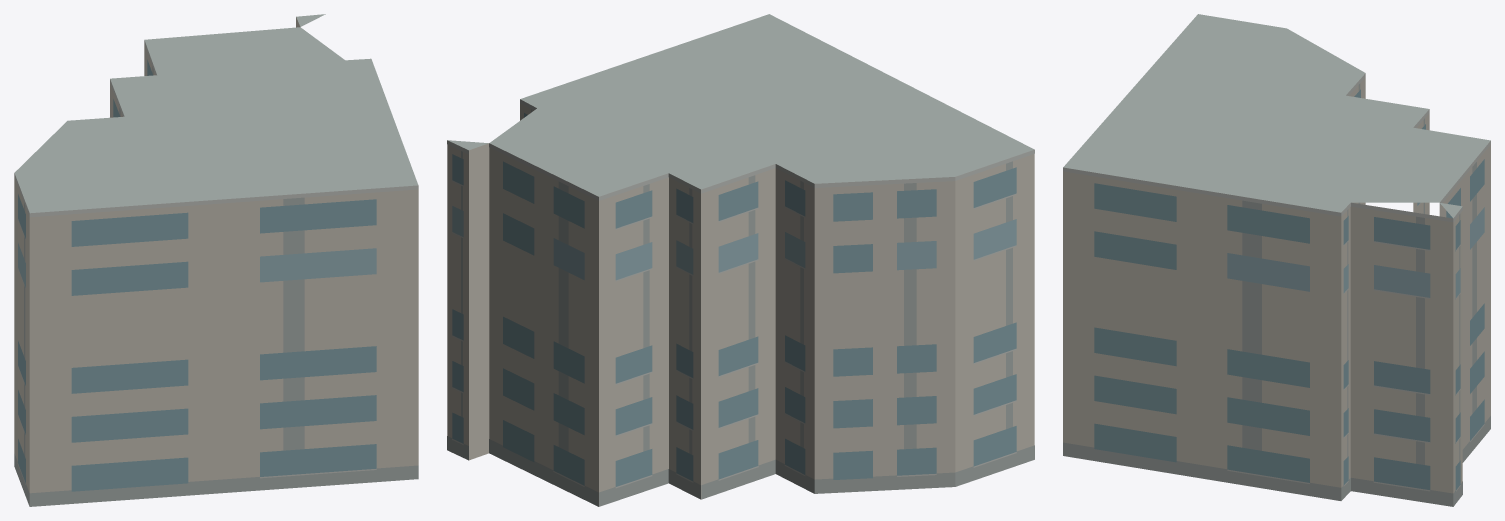
Rendered from survey-upis-32910128.glb.
3 views of the same model, side by side, from view 1: azimuth 30°, elevation 25°; view 2: azimuth 150°, elevation 25°; view 3: azimuth 270°, elevation 25° (orthographic). The views are drawn at different scales.
Parts seen in each view (by area): view 1: survey-upis-32910128.tmp; view 2: survey-upis-32910128.tmp; view 3: survey-upis-32910128.tmp.
Part boxes in pixels (left/top/right/bottom): survey-upis-32910128.tmp: left=14, top=14, right=418, bottom=506; survey-upis-32910128.tmp: left=447, top=14, right=1034, bottom=506; survey-upis-32910128.tmp: left=1063, top=14, right=1490, bottom=506.
Size of the model in its own units: 27.29 by 17.95 by 24.14.
